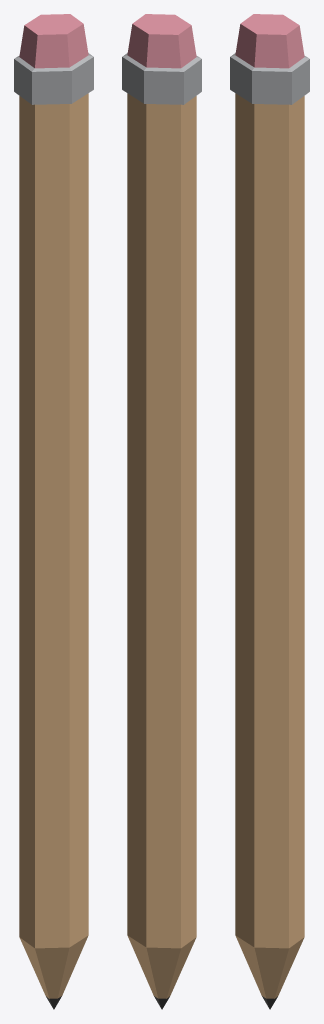
Rendered from Pencil.fbx.
3 views of the same model, side by side, from view 1: azimuth 30°, elevation 25°; view 2: azimuth 150°, elevation 25°; view 3: azimuth 330°, elevation 25° (orthographic).
Visible parts, largest first — view 1: Pencil; view 2: Pencil; view 3: Pencil.
Boxes of the visible parts, x1,y1,x2,y2 form: Pencil: [14, 14, 93, 1009]; Pencil: [122, 14, 201, 1009]; Pencil: [230, 14, 309, 1009].
Bounding box in the file's own units: 1.15 × 17.5 × 1.15.
